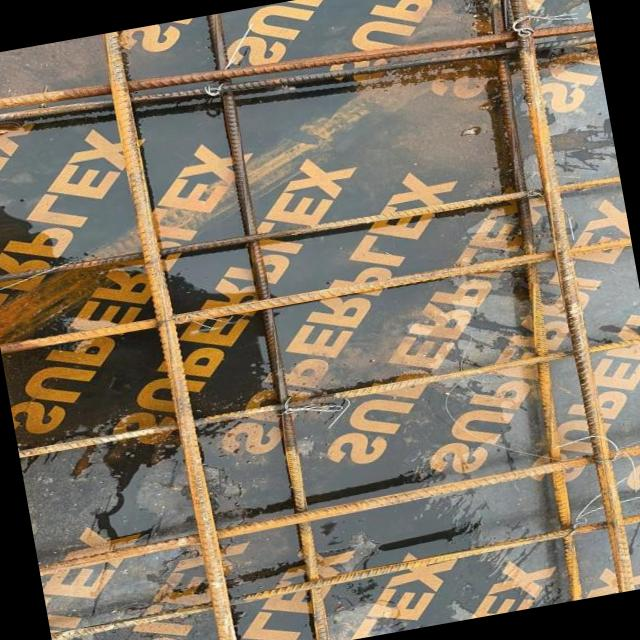ribbed bar: (460, 0, 606, 600), (0, 8, 596, 152), (101, 28, 241, 640), (36, 437, 640, 578), (0, 0, 594, 142), (0, 163, 621, 296), (48, 505, 640, 640), (502, 0, 637, 592), (205, 12, 331, 640), (0, 232, 632, 357), (18, 335, 640, 460)
